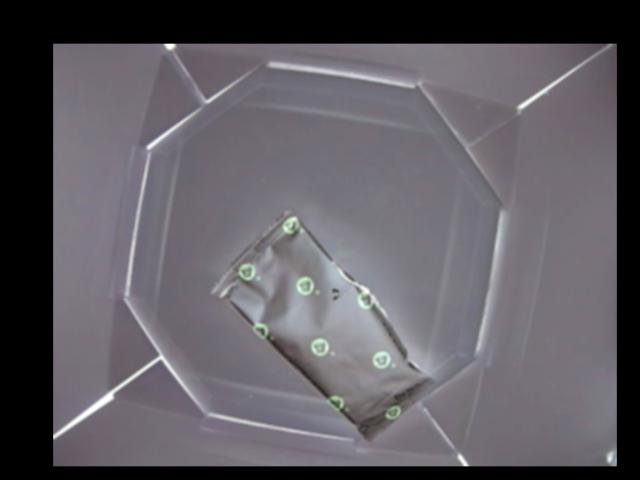Medicine: (211, 209, 436, 458)
